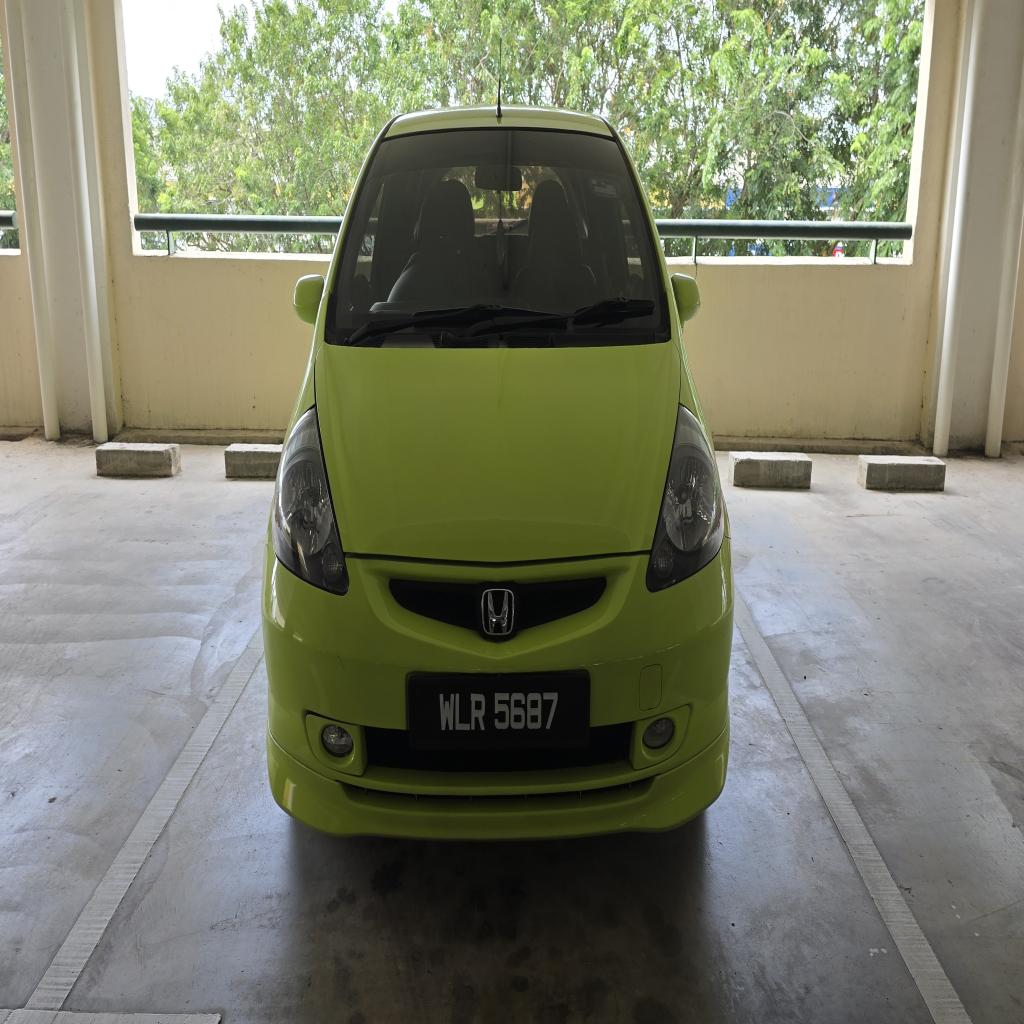car: (263, 109, 732, 838)
car plate: (409, 673, 589, 749)
